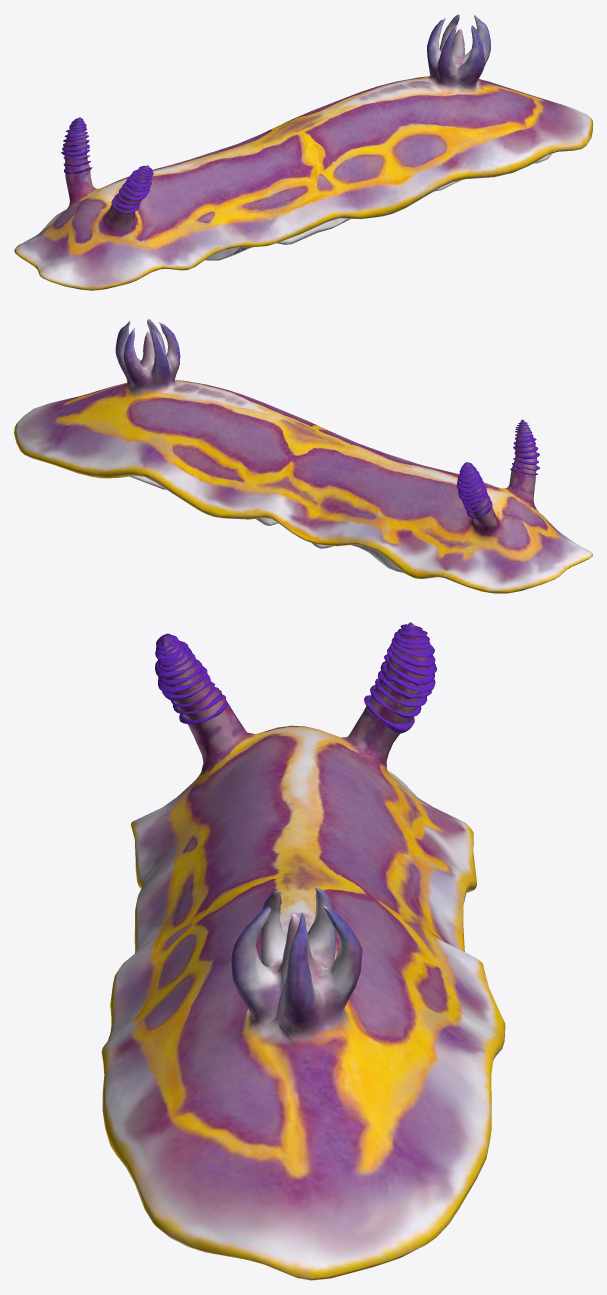
Rendered from nudibranch.glb.
3 renders of one model, top to bottom at view 1: azimuth 30°, elevation 25°; view 2: azimuth 150°, elevation 25°; view 3: azimuth 270°, elevation 25°, orthographic. The views are drawn at different scales.
Parts seen in each view (by area): view 1: body; view 2: body; view 3: body.
Boxes of the visible parts, x1,y1,x2,y2 form: body: (14, 14, 592, 290); body: (14, 319, 592, 593); body: (101, 622, 505, 1280).
Size of the model in its own units: 0.9999 by 0.2717 by 0.3141.
Materials: 2 (1 with a texture image).
